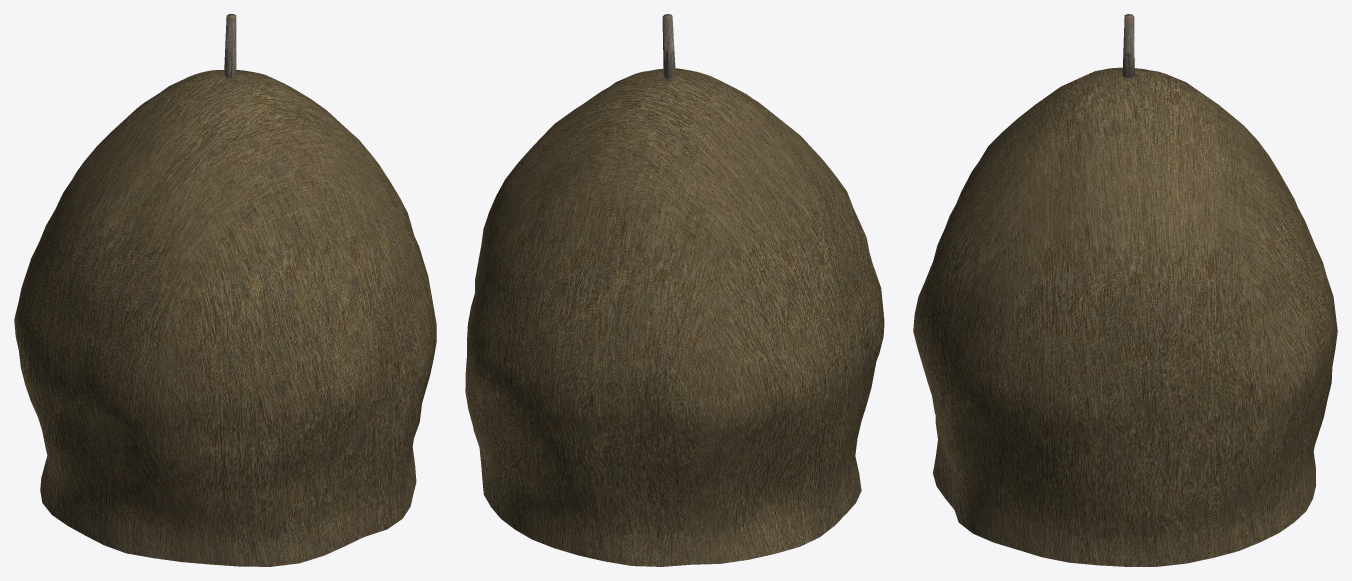
Rendered from haystack.glb.
The picture shows the model from 3 angles, left to right: view 1: azimuth 30°, elevation 25°; view 2: azimuth 150°, elevation 25°; view 3: azimuth 270°, elevation 25°; orthographic projection.
Visible parts, largest first — view 1: haystack; view 2: haystack; view 3: haystack.
Boxes of the visible parts, <box> form: haystack: <box>14,14,436,566</box>; haystack: <box>465,14,884,566</box>; haystack: <box>913,14,1337,566</box>.
Bounding box in the file's own units: 2.26 × 2.85 × 2.33.
Materials: 1 (1 with a texture image).
